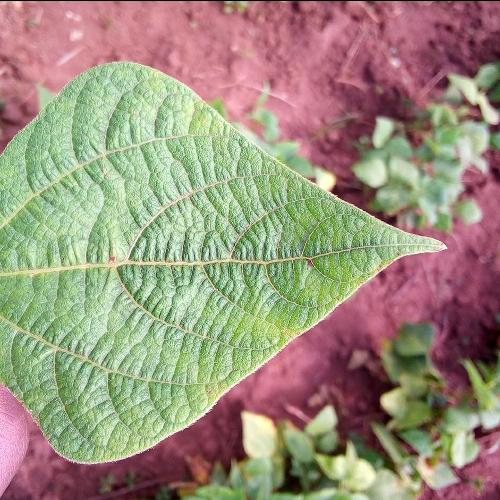hawar: (90, 232, 122, 272)
mozaik: (153, 138, 242, 346), (44, 304, 135, 426)
